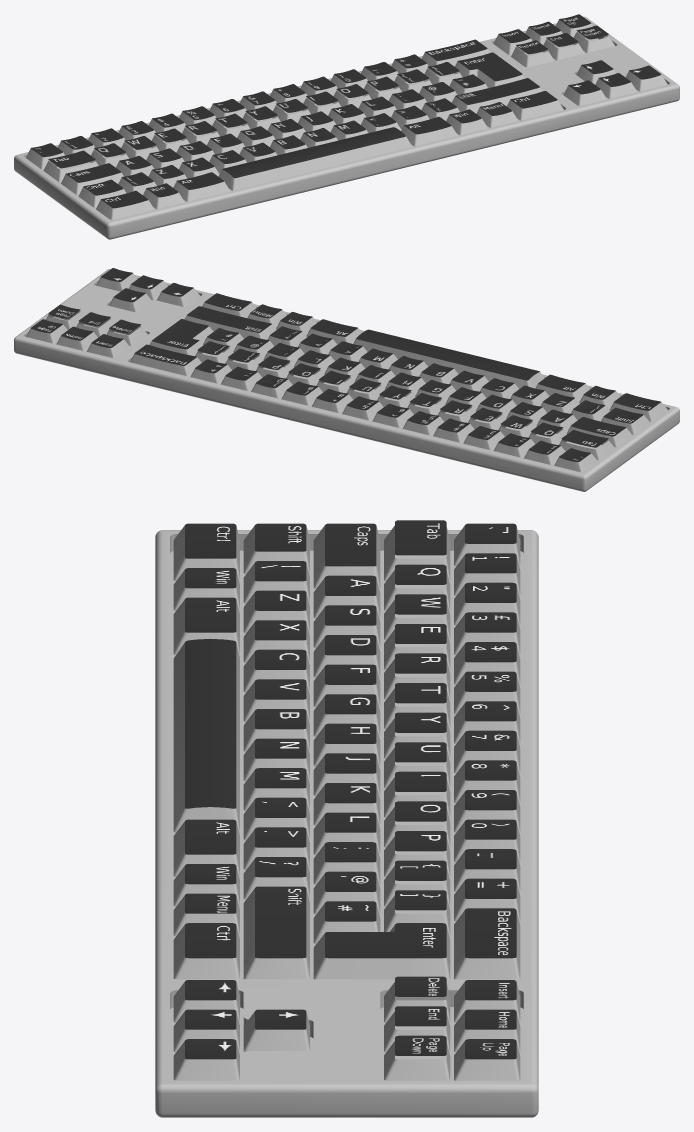
Rendered from keyboard.obj.
The picture shows the model from 3 angles, top to bottom: view 1: azimuth 30°, elevation 25°; view 2: azimuth 150°, elevation 25°; view 3: azimuth 270°, elevation 25°; orthographic projection. The views are drawn at different scales.
Parts seen in each view (by area): view 1: keyboard.obj; view 2: keyboard.obj; view 3: keyboard.obj.
Part boxes in pixels (<box>): keyboard.obj: <box>14,14,679,239</box>; keyboard.obj: <box>14,268,679,491</box>; keyboard.obj: <box>155,520,538,1117</box>.
Bounding box in the file's own units: 0.359 × 0.0157 × 0.104.
